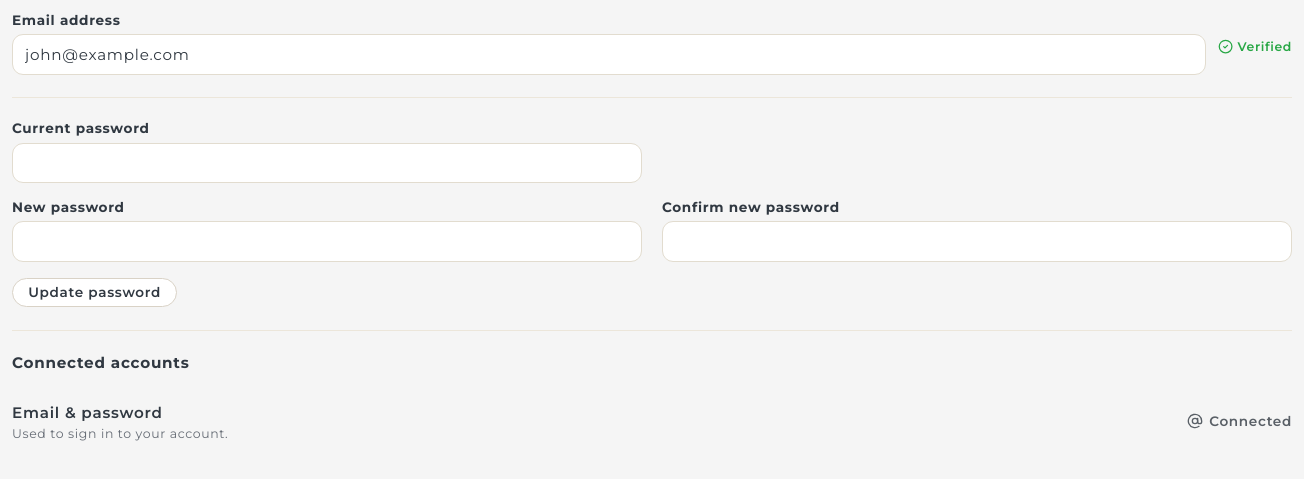
Test: Account & Security — change password › blocks a too-short new password
Type "oldpass" into the password field labelled "Current password".
click(327, 163); type("oldpass")  # box [12, 143, 642, 183]
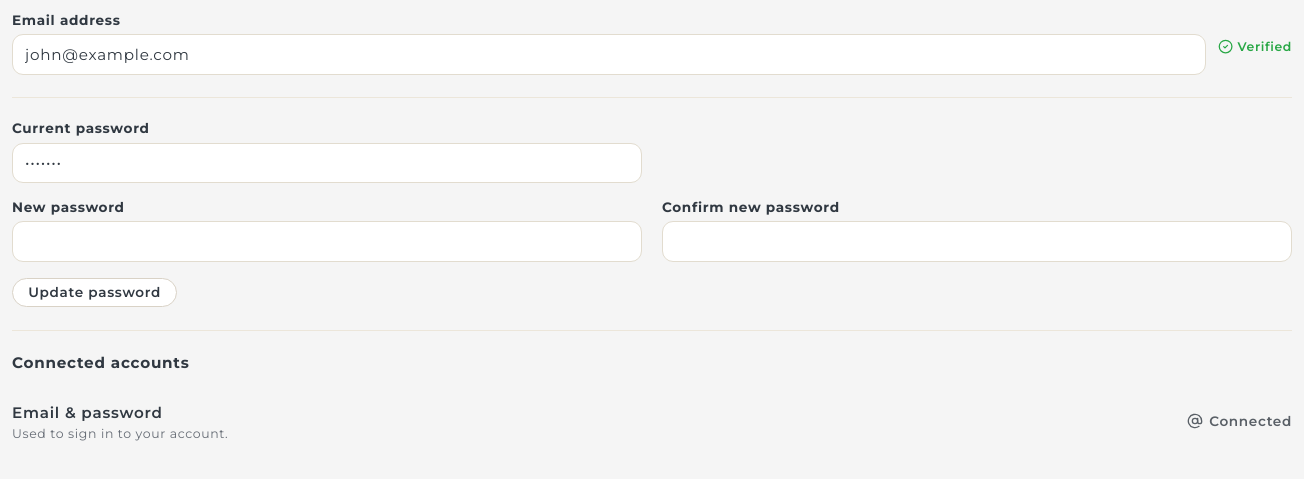
Type "abc" into the password field labelled "New password".
click(327, 241); type("abc")  # box [12, 221, 642, 262]
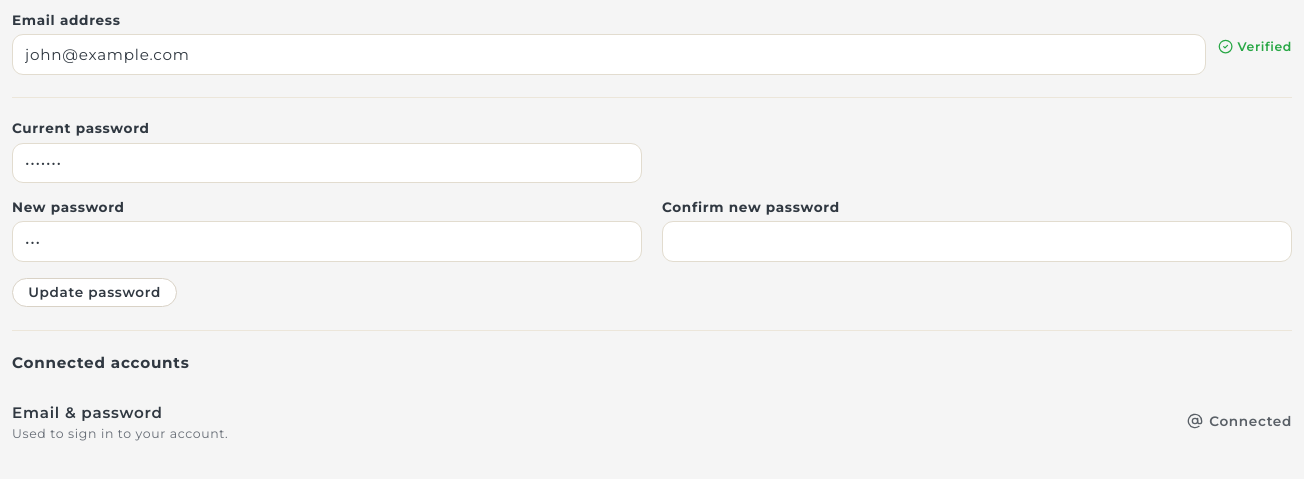
Type "abc" into the password field labelled "Confirm new password".
click(977, 241); type("abc")  # box [662, 221, 1292, 262]
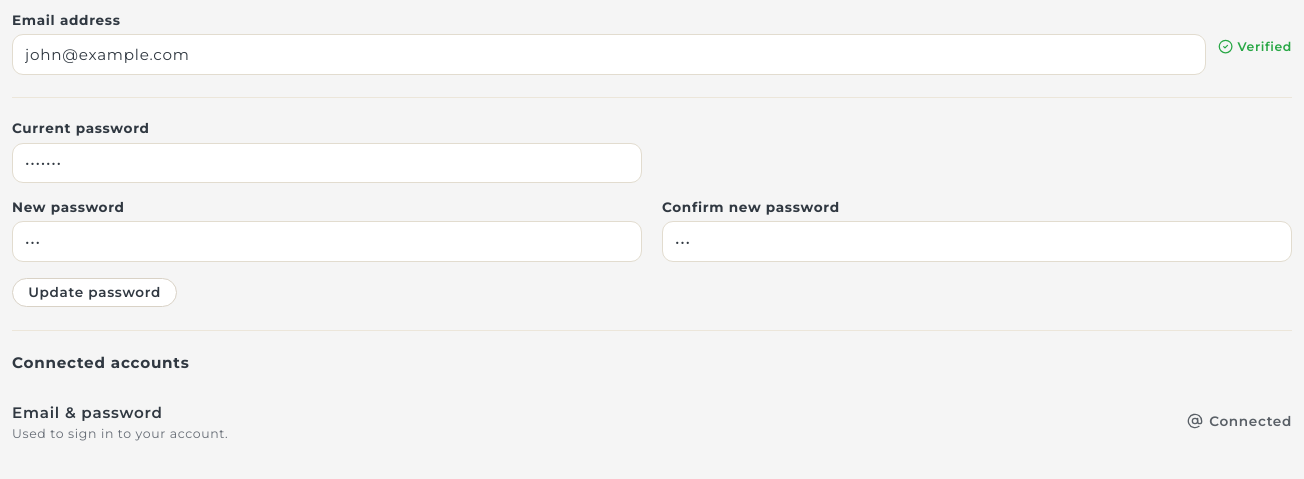
Click the button "Update password".
click(95, 292)  # box [12, 278, 177, 308]
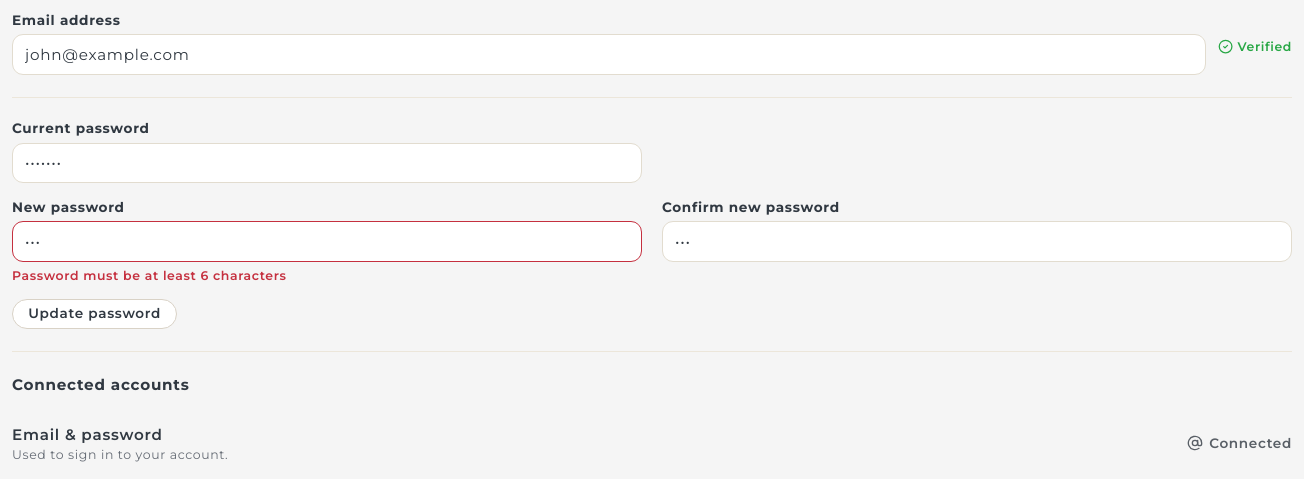
Now the text "Password must be at least 6 characters" is shown, box [12, 268, 287, 283]
